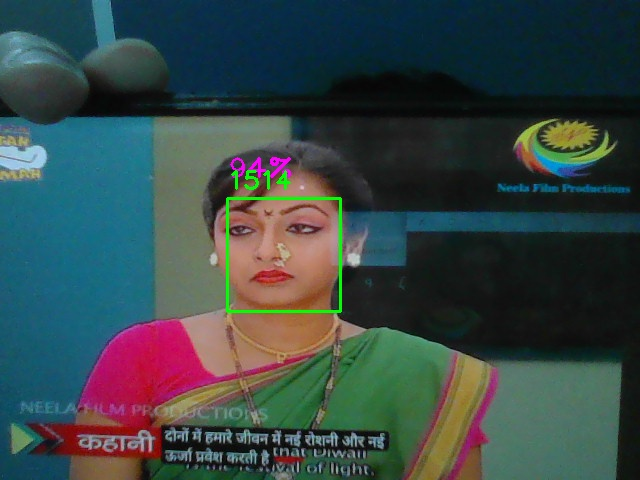fake: (227, 198, 341, 312)
